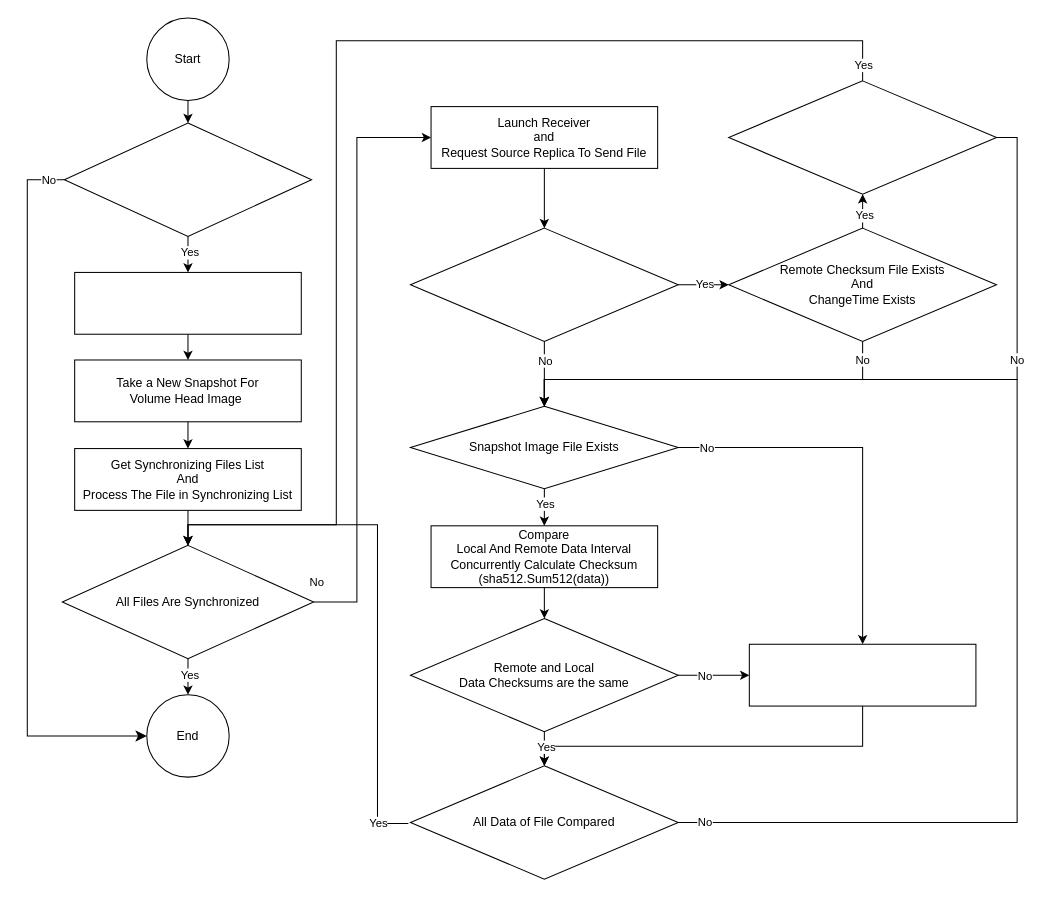
Image size: 1043x897. Some labels were removed from this diagram. Each missing label, with the centre of its shape:
fast-replica-rebuilding Enabled And File Checksum Exists: the point at 543,284
Mark Target Replica Write-Only(WO): the point at 187,302
Need Replica Rebuilding: the point at 187,179
Remote and Local File Checksums Are The Same: the point at 862,137
Send data to Launch Receiver: the point at 862,674
